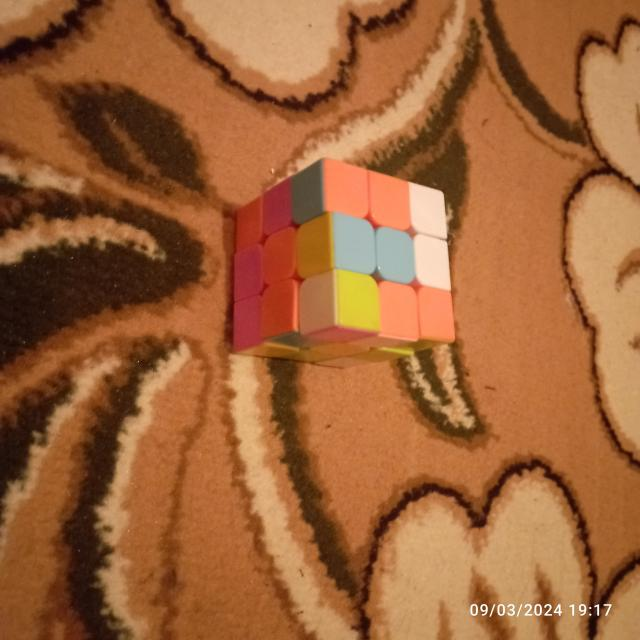Rub: (226, 153, 458, 373)
